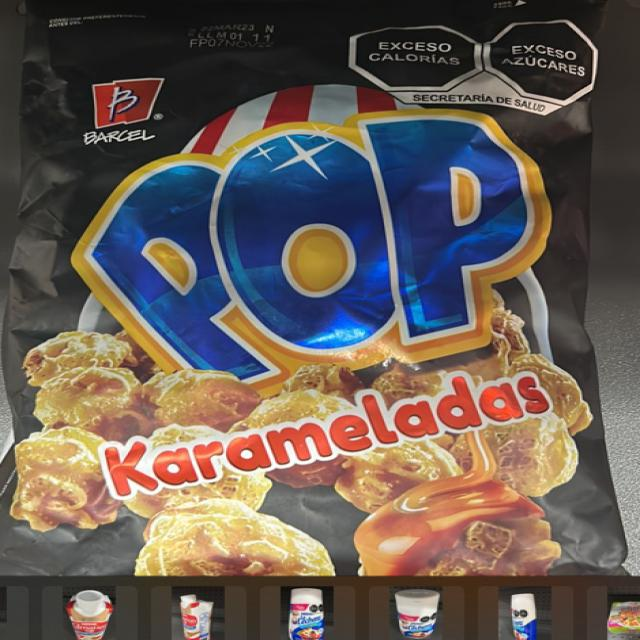popKarameladas: (3, 0, 611, 574)
